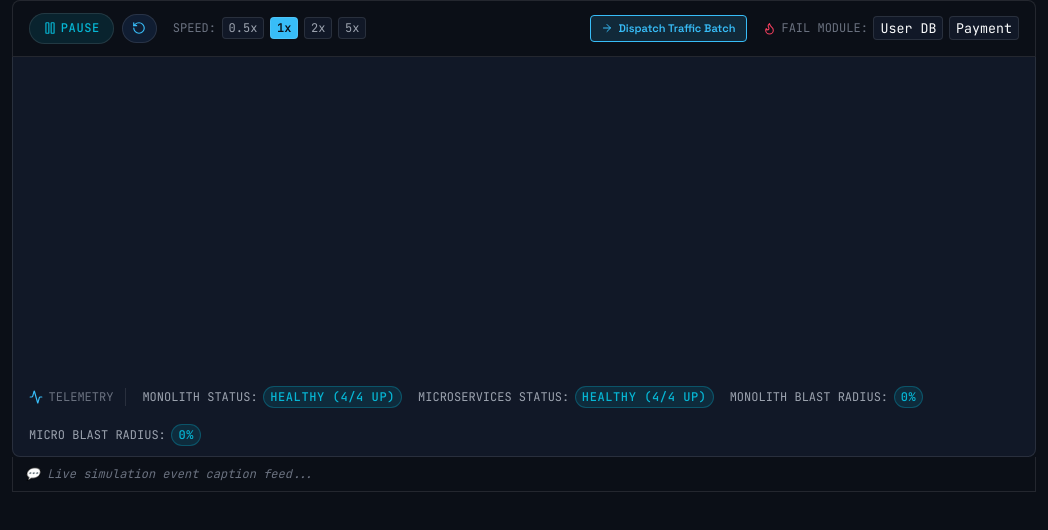
Test: MicroservicesVisualizer (Catalog Viz #12) › handles User DB Failure Injection and demonstrates blast radius isolation difference
The image size is (1048, 530).
What coordinates should you click on to do the following:
click the button "User DB"
I would click on:
 (908, 28)
Its box is [873,16,943,40].
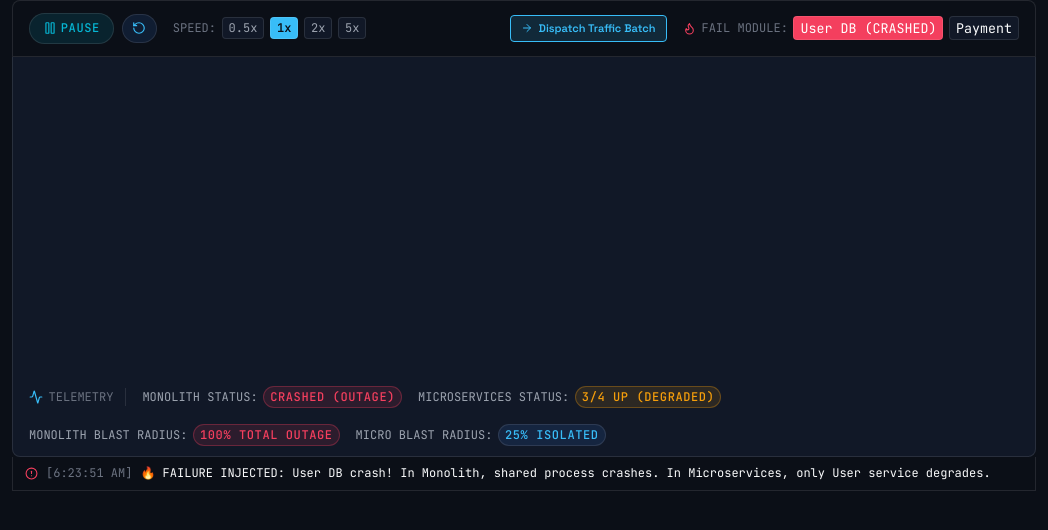
What coordinates should you click on to do the following:
click the button "Dispatch Traffic Batch"
I would click on:
 (588, 28)
Its box is [510,15,667,42].
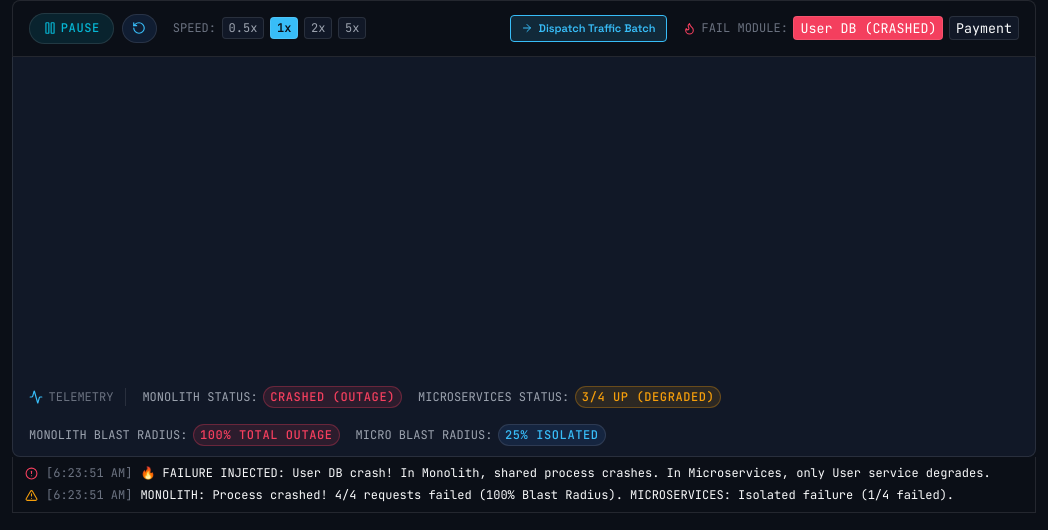
expect the text "MONOLITH: Process crashed! 4/4 requests failed" is shown: met, box [140,487,954,503]
